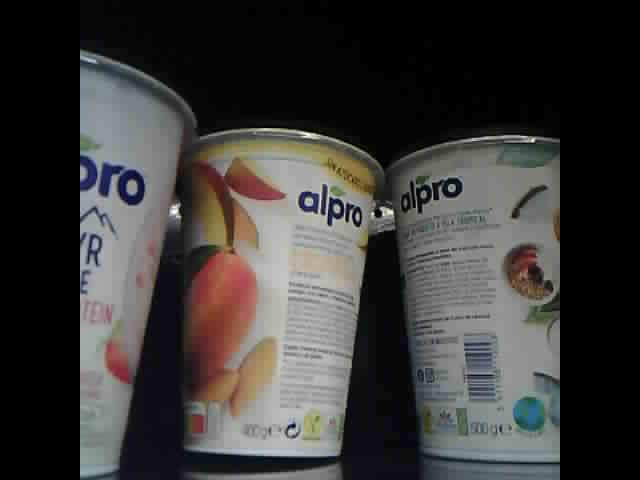alpro: (177, 123, 389, 465), (385, 127, 560, 464), (80, 42, 196, 476)
